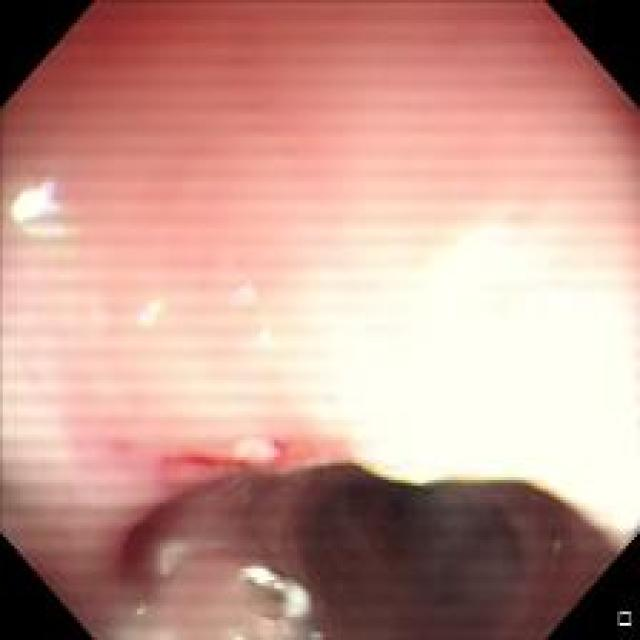blur: (78, 428, 596, 632)
saturation: (292, 196, 636, 538), (121, 312, 324, 444)
specularity: (0, 161, 76, 244), (279, 578, 311, 625), (236, 565, 279, 596)
